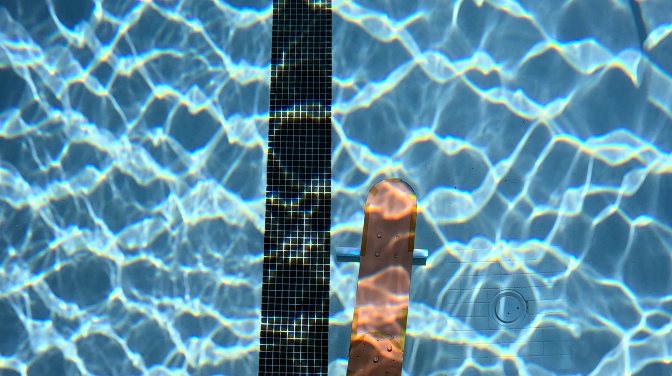pathmarker: (345, 180, 417, 375)
